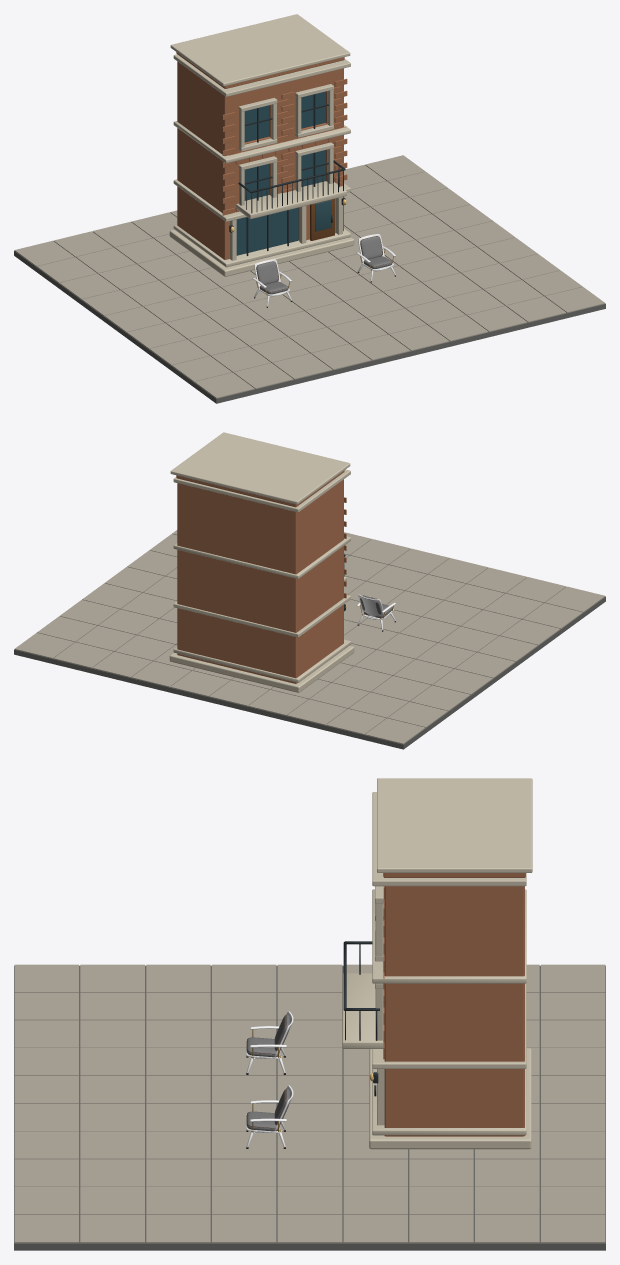
Rendered from garage.glb.
3 renders of one model, top to bottom at view 1: azimuth 30°, elevation 25°; view 2: azimuth 150°, elevation 25°; view 3: azimuth 270°, elevation 25°, orthographic. The views are drawn at different scales.
Visible parts, largest first — view 1: facade, roof_cap, courtyard_floor, shop_window, balcony_floor, foundation, cornice, base_course, middle_course, courtyard_paver, courtyard_paver.004, courtyard_paver.006 (+76 smaller); view 2: facade, roof_cap, courtyard_floor, foundation, cornice, base_course, middle_course, shop_header, courtyard_paver.080, courtyard_paver.082, courtyard_paver.084, courtyard_paver.088 (+53 smaller); view 3: facade, roof_cap, courtyard_floor, foundation, balcony_floor, courtyard_paver.040, courtyard_paver.049, courtyard_paver.010, courtyard_paver.011, courtyard_paver.015, courtyard_paver.016, courtyard_paver.019 (+73 smaller).
Boxes of the visible parts, <box> form: facade: <box>177,61,343,259</box>; roof_cap: <box>170,14,350,86</box>; courtyard_floor: <box>14,181,605,403</box>; shop_window: <box>236,207,298,255</box>; balcony_floor: <box>236,181,346,219</box>; foundation: <box>169,229,354,276</box>; cornice: <box>173,54,350,96</box>; base_course: <box>173,225,350,267</box>; middle_course: <box>173,121,350,163</box>; courtyard_paver: <box>194,372,254,398</box>; courtyard_paver.004: <box>350,334,410,360</box>; courtyard_paver.006: <box>428,315,488,341</box>; facade: <box>177,479,343,683</box>; roof_cap: <box>170,432,350,504</box>; courtyard_floor: <box>14,581,605,749</box>; foundation: <box>169,645,354,692</box>; cornice: <box>173,469,350,512</box>; base_course: <box>173,639,350,682</box>; middle_course: <box>173,536,350,578</box>; shop_header: <box>173,595,350,637</box>; courtyard_paver.080: <box>365,718,425,744</box>; courtyard_paver.082: <box>287,699,347,725</box>; courtyard_paver.084: <box>209,680,269,706</box>; courtyard_paver.088: <box>53,642,113,668</box>; facade: <box>384,886,524,1136</box>; roof_cap: <box>377,778,532,872</box>; courtyard_floor: <box>14,965,605,1250</box>; foundation: <box>369,1048,531,1149</box>; balcony_floor: <box>342,973,383,1048</box>; courtyard_paver.040: <box>277,964,342,992</box>; courtyard_paver.049: <box>277,1215,342,1243</box>; courtyard_paver.010: <box>80,964,144,992</box>; courtyard_paver.011: <box>80,992,144,1020</box>; courtyard_paver.015: <box>80,1103,144,1131</box>; courtyard_paver.016: <box>80,1131,144,1159</box>; courtyard_paver.019: <box>80,1215,144,1243</box>.
Size of the model in its own units: 15 by 7.26 by 13.5.
